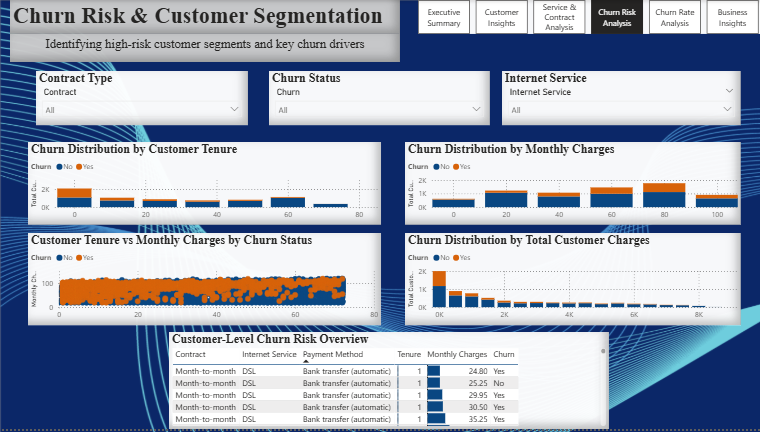

The dashboard page shown, as its layout file describes it:
{"tool":"powerbi","page":{"name":"Churn Risk Analysis","canvas":[1280,720],"ordinal":3},"visuals":[{"type":"textbox","box":[16.8,0,655.1,57.1],"z":0},{"type":"textbox","box":[16.8,57.1,655.1,47],"z":1000},{"type":"slicer","title":"Contract Type","fields":{"Values":["Customer_Churn.Contract"]},"box":[60.5,119.3,356.1,90.7],"z":2000},{"type":"slicer","title":"Internet Service","fields":{"Values":["Customer_Churn.Internet Service"]},"box":[843.3,119.3,401.5,90.7],"z":3000},{"type":"slicer","title":"Churn Status","fields":{"Values":["Customer_Churn.Churn"]},"box":[451.9,119.3,371.2,90.7],"z":4000},{"type":"columnChart","title":"Churn Distribution by Customer Tenure","fields":{"Category":["Customer_Churn.Tenure Group"],"Y":["Customer_Churn.Total Customers"],"Series":["Customer_Churn.Churn"]},"box":[47,238.5,593,139.4],"z":5000},{"type":"columnChart","title":"Churn Distribution by Monthly Charges","fields":{"Category":["Customer_Churn.Monthly Charges Group"],"Y":["Customer_Churn.Total Customers"],"Series":["Customer_Churn.Churn"]},"box":[680.3,238.5,564.4,139.4],"z":6000},{"type":"columnChart","title":"Churn Distribution by Total Customer Charges","fields":{"Category":["Customer_Churn.Total Charges Group"],"Y":["Customer_Churn.Total Customers"],"Series":["Customer_Churn.Churn"]},"box":[680.3,391.4,564.4,154.5],"z":7000},{"type":"scatterChart","title":"Customer Tenure vs Monthly Charges by Churn Status","fields":{"X":["Customer_Churn.Tenure"],"Y":["Customer_Churn.Monthly Charges"],"Series":["Customer_Churn.Churn"]},"box":[47,391.4,593,154.5],"z":8000},{"type":"tableEx","title":"Customer-Level Churn Risk Overview","fields":{"Values":["Customer_Churn.Contract","Customer_Churn.Internet Service","Customer_Churn.Payment Method","Customer_Churn.Tenure","Customer_Churn.Monthly Charges","Customer_Churn.Churn"]},"box":[284.6,557.5,739.4,163.4],"z":9000},{"type":"pageNavigator","box":[702.2,0,577.8,57.1],"z":10000}]}

Visuals, with their boxes in screenshot pixels (x1, y1, x2, y2), scaled from the page's 1280x720 canvas onto the 760x432 screenshot:
textbox: x1=10, y1=0, x2=399, y2=34
textbox: x1=10, y1=34, x2=399, y2=62
"Contract Type" slicer: x1=36, y1=72, x2=247, y2=126
"Internet Service" slicer: x1=501, y1=72, x2=739, y2=126
"Churn Status" slicer: x1=268, y1=72, x2=489, y2=126
"Churn Distribution by Customer Tenure" columnChart: x1=28, y1=143, x2=380, y2=227
"Churn Distribution by Monthly Charges" columnChart: x1=404, y1=143, x2=739, y2=227
"Churn Distribution by Total Customer Charges" columnChart: x1=404, y1=235, x2=739, y2=328
"Customer Tenure vs Monthly Charges by Churn Status" scatterChart: x1=28, y1=235, x2=380, y2=328
"Customer-Level Churn Risk Overview" tableEx: x1=169, y1=334, x2=608, y2=431
pageNavigator: x1=417, y1=0, x2=759, y2=34
